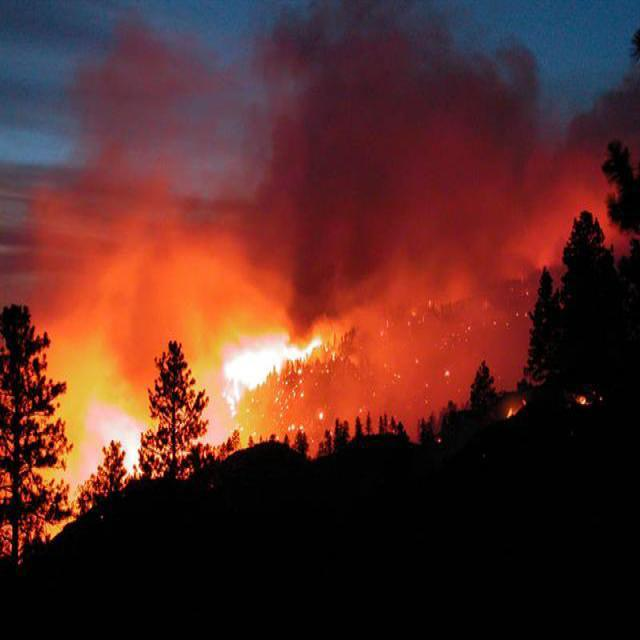Fire: (50, 373, 166, 526), (207, 322, 337, 428)
Smoke: (20, 6, 639, 326), (236, 334, 503, 471)
